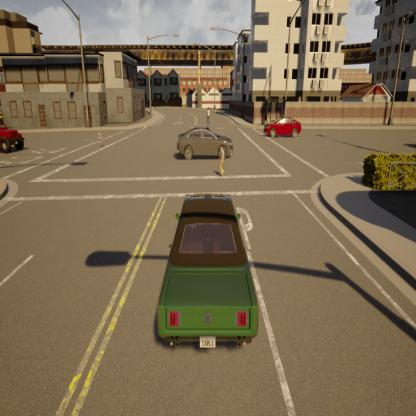Cars: (151, 188, 264, 356), (172, 124, 237, 162), (262, 115, 304, 142), (0, 114, 26, 157)
Pedestrian: (215, 142, 230, 180), (96, 123, 104, 152)
